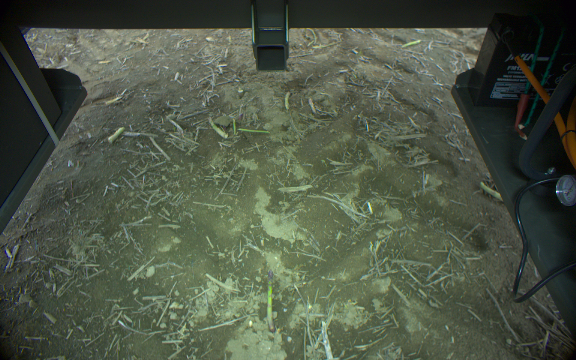aspa: (261, 267, 278, 337), (206, 115, 228, 140), (237, 124, 273, 135), (284, 90, 292, 111), (231, 115, 238, 136)
